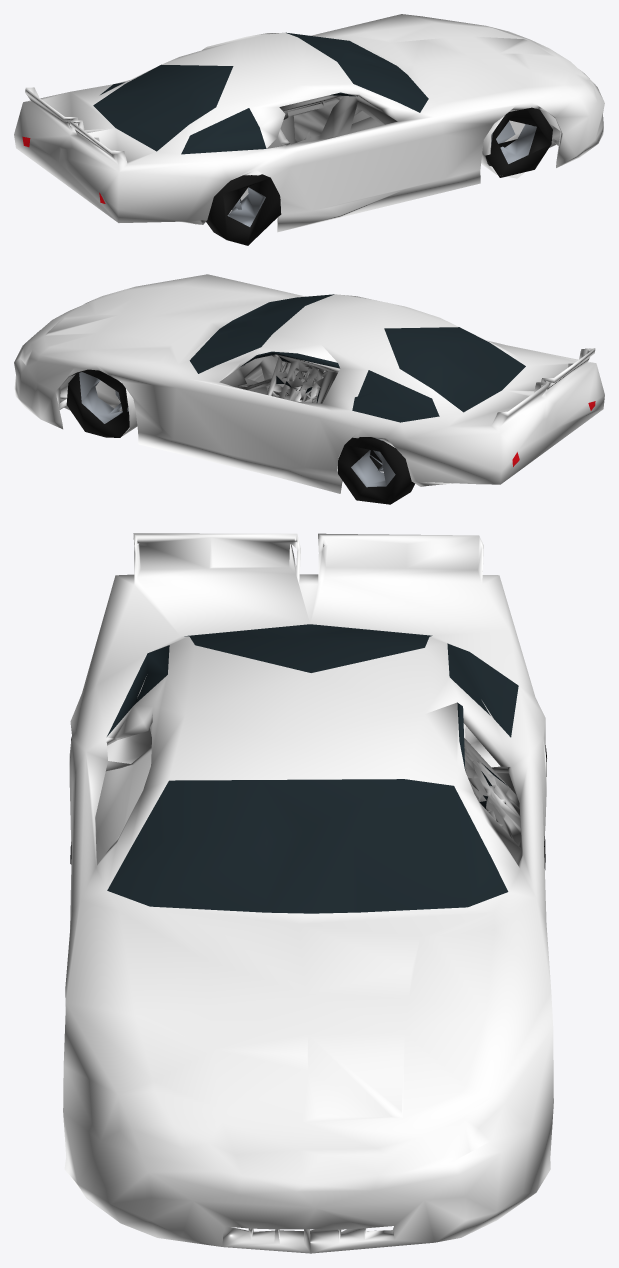
Rendered from car_slm_lod2.glb.
The picture shows the model from 3 angles, top to bottom: view 1: azimuth 30°, elevation 25°; view 2: azimuth 150°, elevation 25°; view 3: azimuth 270°, elevation 25°; orthographic projection. The views are drawn at different scales.
Visible parts, largest first — view 1: Body, Tire_RL, Tire_FL; view 2: Body, Tire_RR, Tire_FR; view 3: Body.
Part boxes in pixels (left/top/right/bottom): Body: left=14, top=14, right=604, bottom=232; Tire_RL: left=206, top=174, right=281, bottom=245; Tire_FL: left=485, top=107, right=552, bottom=177; Body: left=14, top=274, right=604, bottom=493; Tire_RR: left=338, top=437, right=414, bottom=504; Tire_FR: left=66, top=369, right=129, bottom=437; Body: left=63, top=533, right=553, bottom=1253.
Bounding box in the file's own units: 5.34 × 1.23 × 2.19.
Materials: 4 (4 with a texture image).
